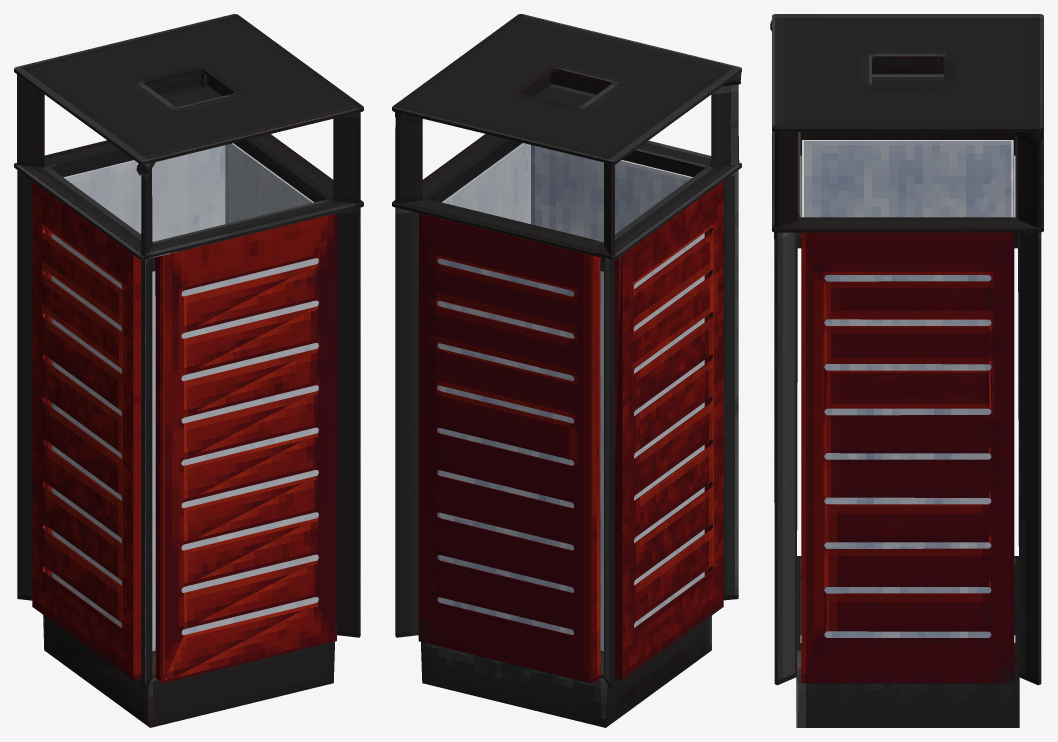
File: trash_basket.glb
3 renders of one model, left to right at view 1: azimuth 30°, elevation 25°; view 2: azimuth 150°, elevation 25°; view 3: azimuth 270°, elevation 25°, orthographic. The views are drawn at different scales.
Parts seen in each view (by area): view 1: mesh; view 2: mesh; view 3: mesh.
Part boxes in pixels (box(x1,y1,x2,y2)): mesh: box(14, 14, 363, 727); mesh: box(392, 14, 741, 727); mesh: box(770, 14, 1043, 727).
Size of the model in its own units: 0.3557 by 0.875 by 0.3561.
1 material, 1 textured.
